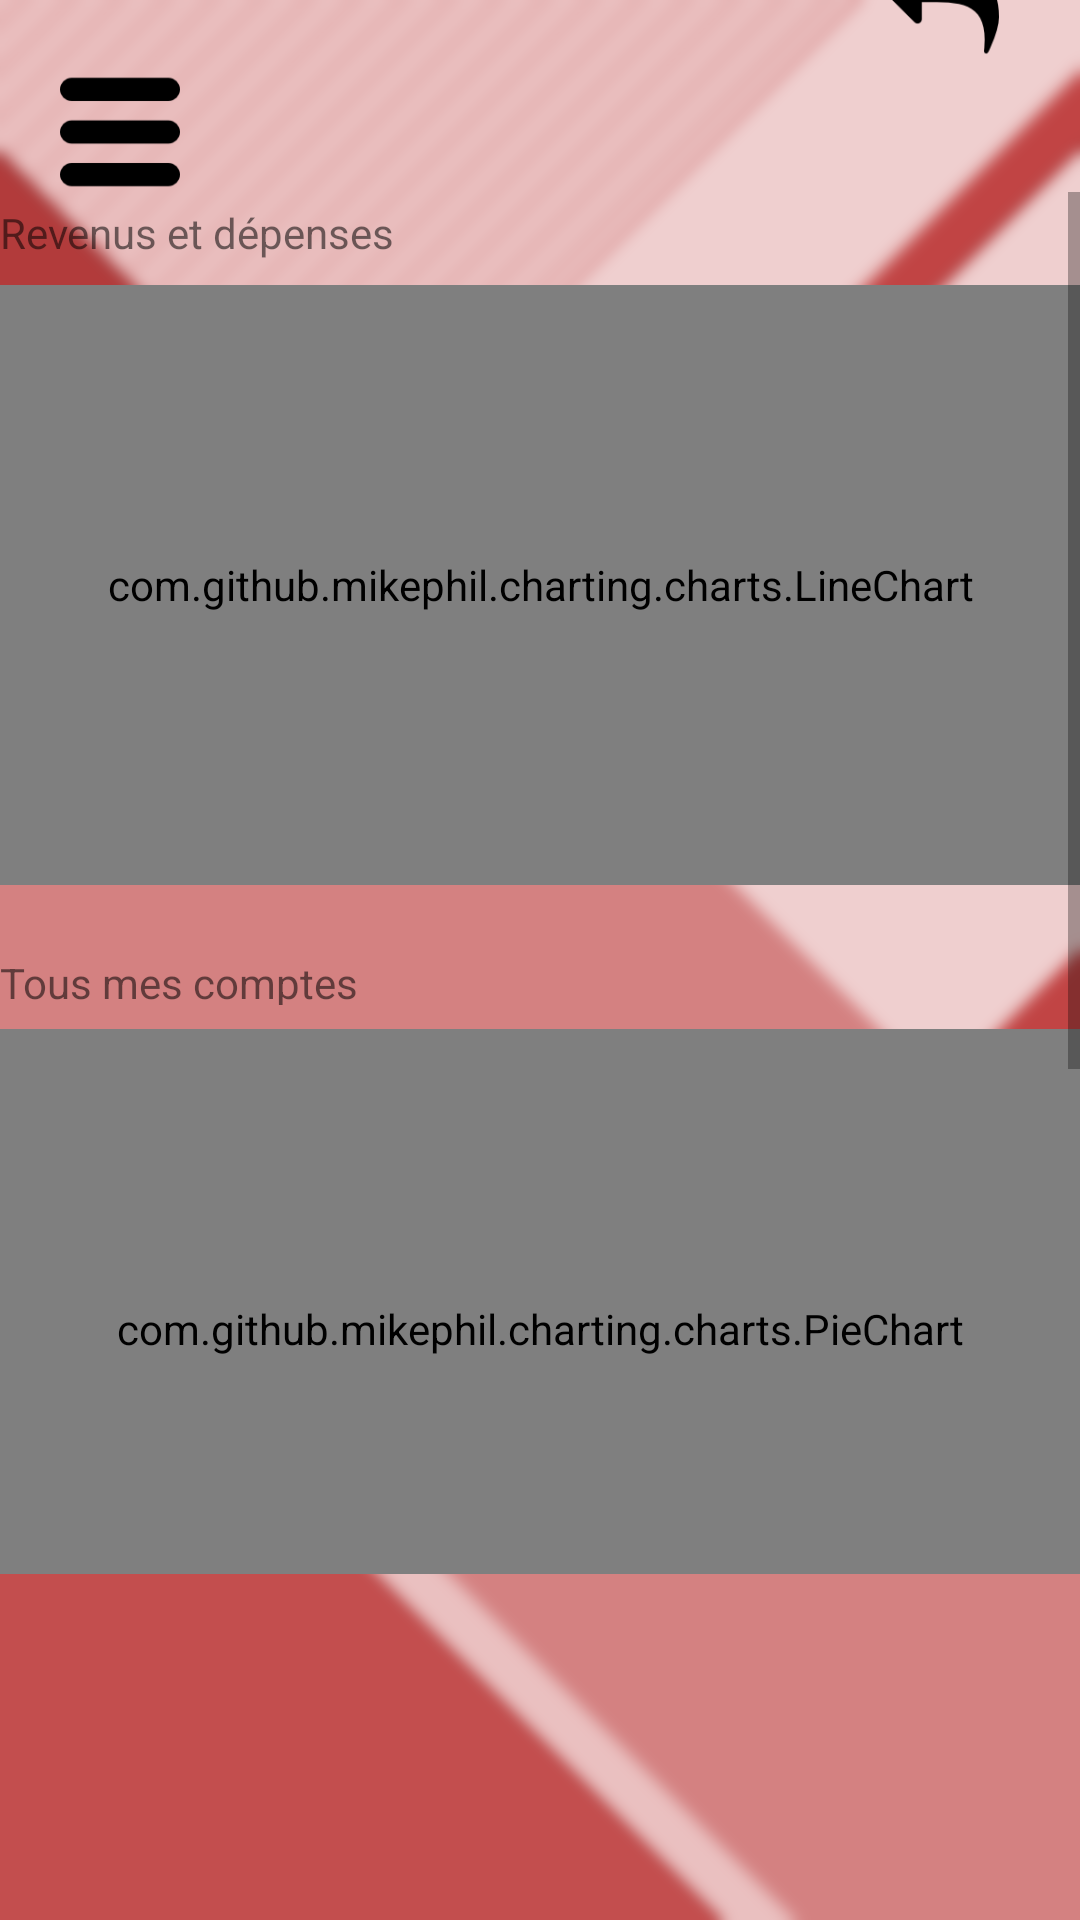

Screen size 1080 × 1920. Icon name, then its center in pixels as [x,y]:
burger: [120,132]
